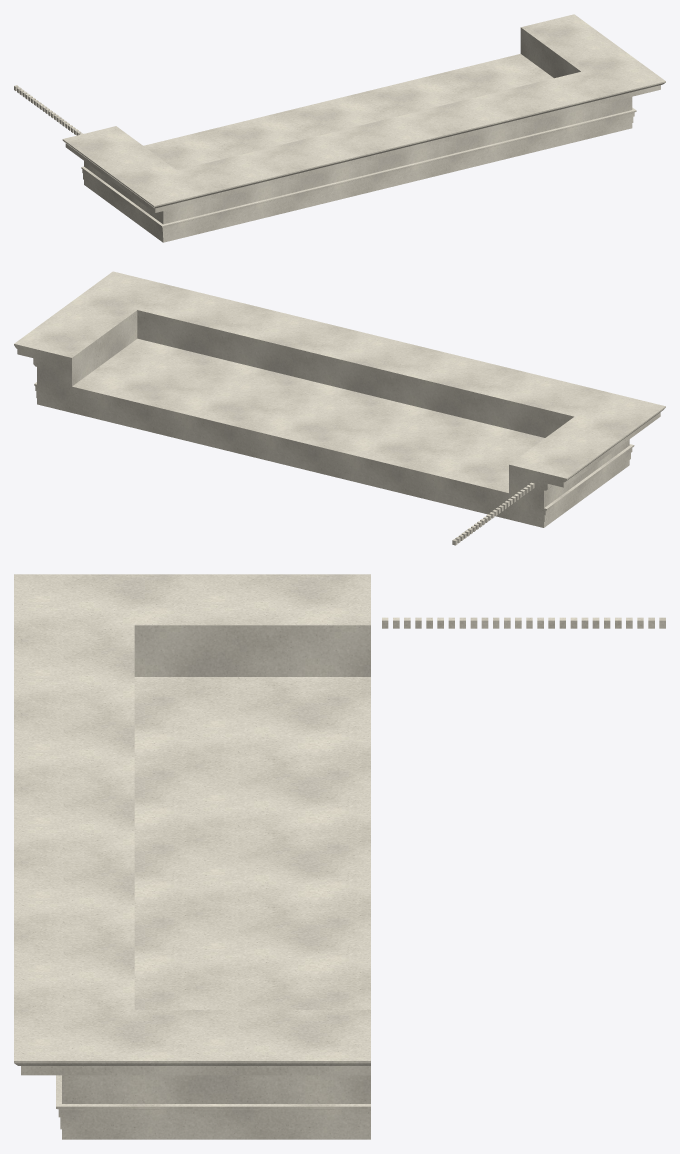
File: portico_ent.glb
3 views of the same model, one above another, from view 1: azimuth 30°, elevation 25°; view 2: azimuth 150°, elevation 25°; view 3: azimuth 270°, elevation 25° (orthographic). The views are drawn at different scales.
Visible parts, largest first — view 1: portico_ent_carve; view 2: portico_ent_carve; view 3: portico_ent_carve.
Boxes of the visible parts, left/top/right/bottom form: portico_ent_carve: left=14, top=14, right=665, bottom=242; portico_ent_carve: left=14, top=271, right=665, bottom=545; portico_ent_carve: left=14, top=574, right=665, bottom=1139.
Size of the model in its own units: 13.16 by 1.25 by 7.45.
Materials: 1 (1 with a texture image).
